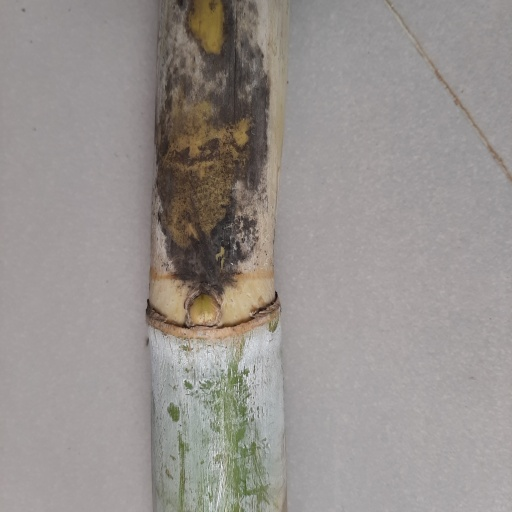Bud: (186, 294, 222, 328)
